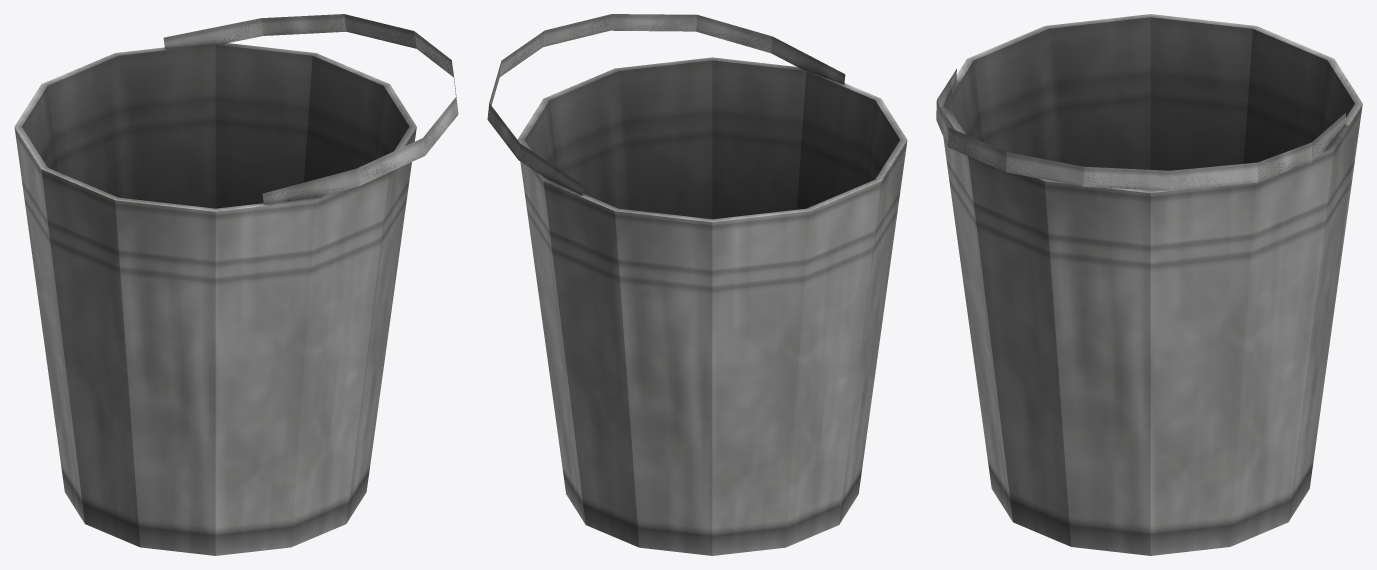
Rendered from eimer_01.fbx.
3 renders of one model, left to right at view 1: azimuth 30°, elevation 25°; view 2: azimuth 150°, elevation 25°; view 3: azimuth 270°, elevation 25°, orthographic. The views are drawn at different scales.
Parts seen in each view (by area): view 1: Mesh; view 2: Mesh; view 3: Mesh.
Part boxes in pixels (left/top/right/bottom): Mesh: left=14, top=14, right=458, bottom=555; Mesh: left=487, top=14, right=907, bottom=555; Mesh: left=936, top=14, right=1362, bottom=555.
Bounding box in the file's own units: 35.8 × 36.06 × 32.64.
